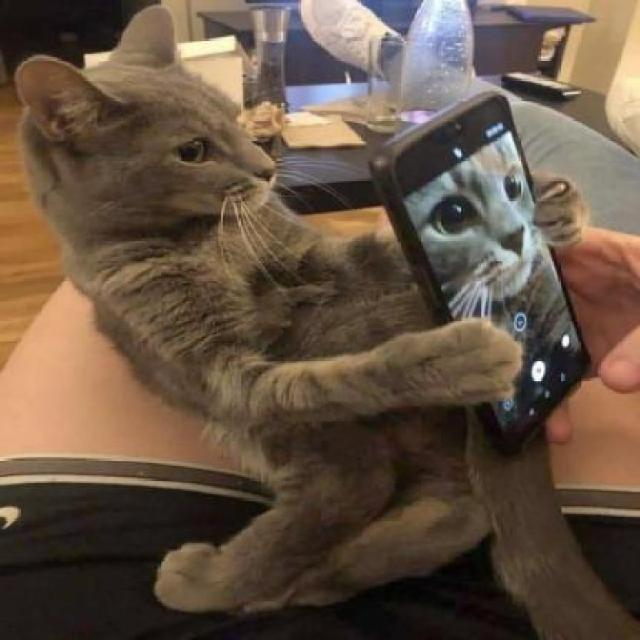cat: (9, 0, 422, 428), (426, 175, 556, 327)
